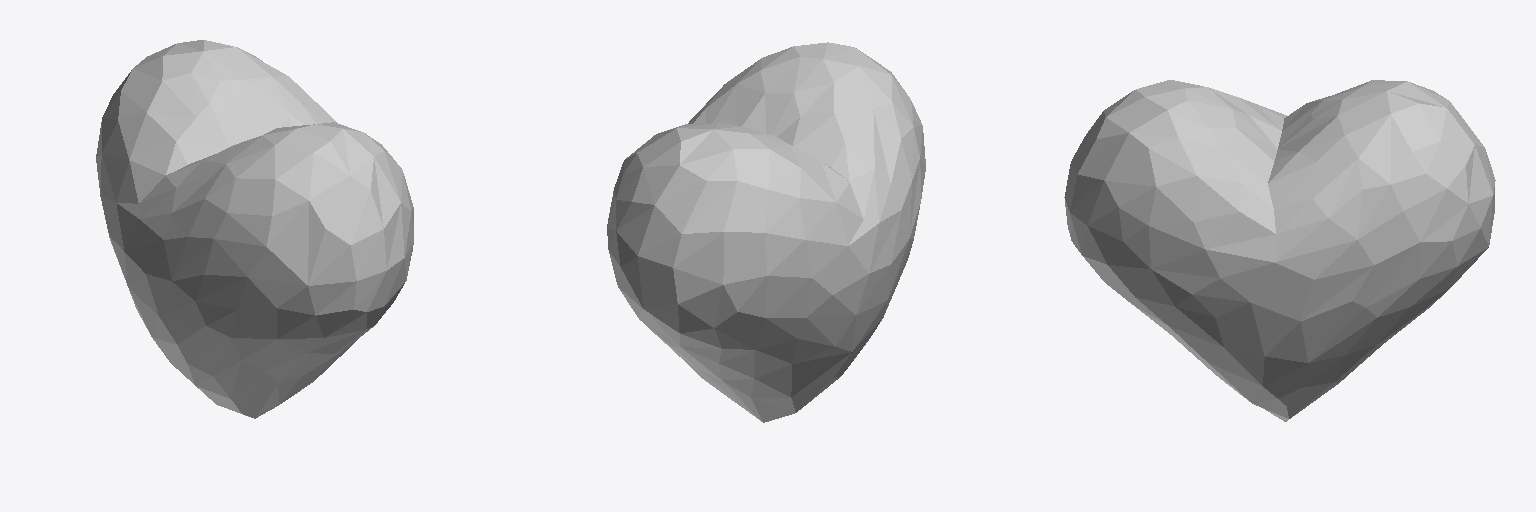
File: heart.obj
3 views of the same model, side by side, from view 1: azimuth 30°, elevation 25°; view 2: azimuth 150°, elevation 25°; view 3: azimuth 270°, elevation 25° (orthographic).
Parts seen in each view (by area): view 1: Heart; view 2: Heart; view 3: Heart.
Boxes of the visible parts, x1,y1,x2,y2 form: Heart: [96, 40, 413, 418]; Heart: [607, 42, 925, 422]; Heart: [1064, 80, 1495, 421].
Bounding box in the file's own units: 0.3887 × 0.5256 × 0.6206.